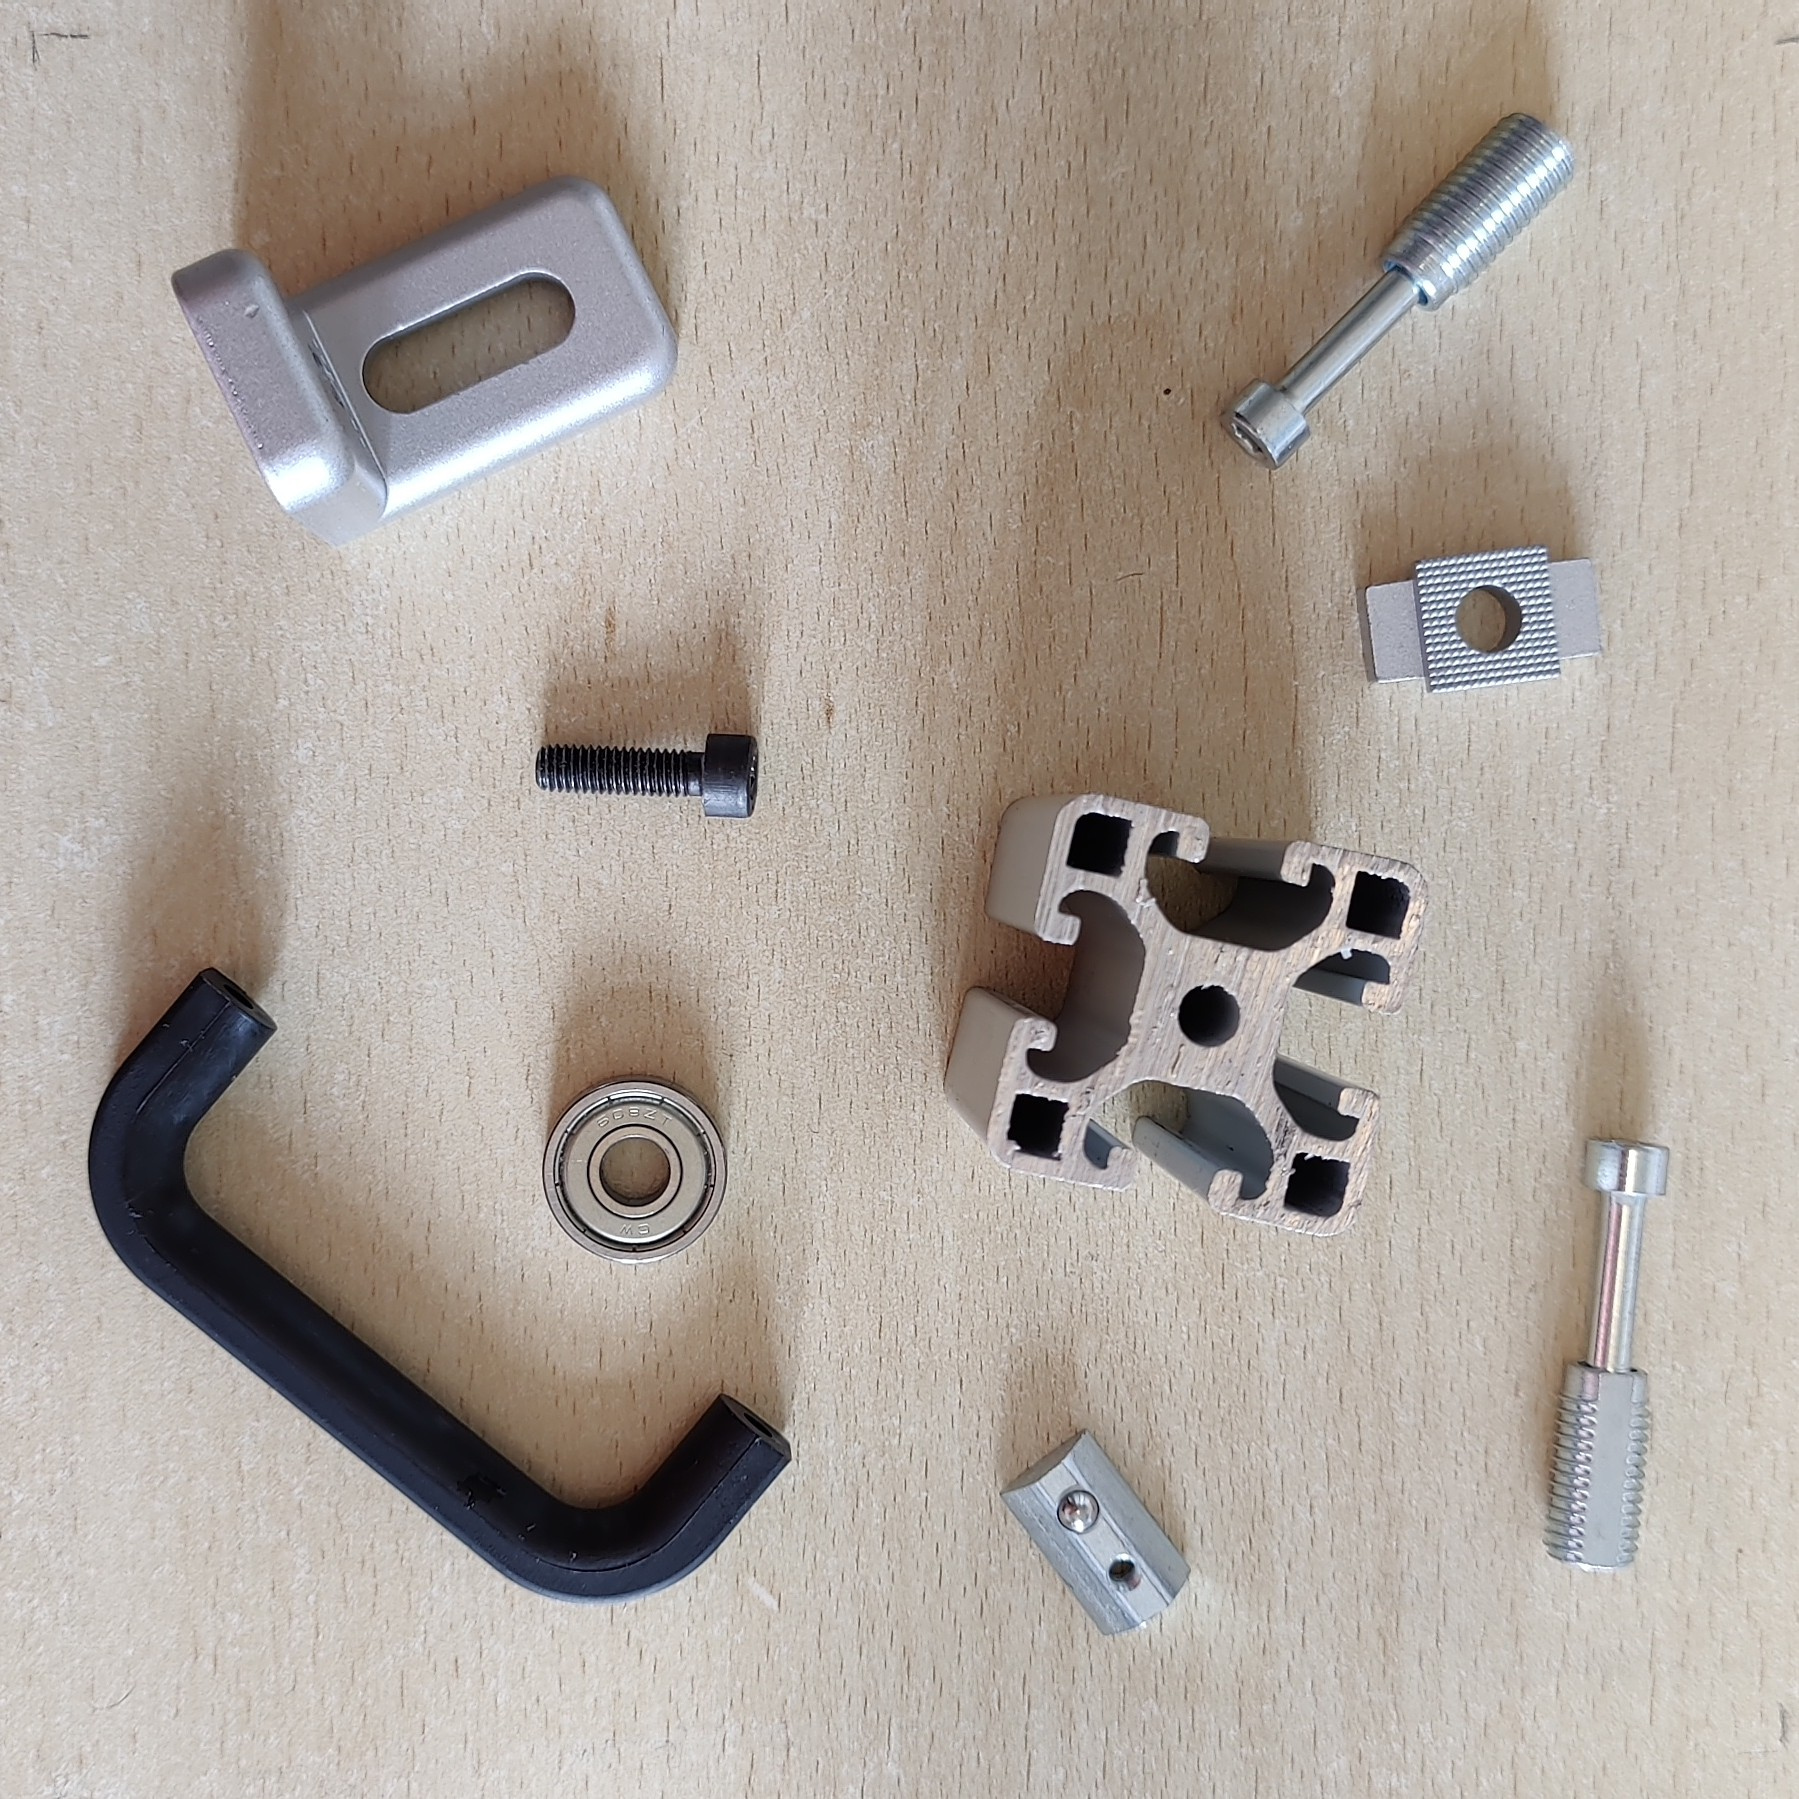Aluminium Extension: (941, 787, 1432, 1241)
Ball Bearing: (540, 1072, 728, 1267)
Multiwinkel: (170, 173, 680, 549)
Pull Handle: (84, 964, 792, 1610)
Shoulder Socket Head Cap Screw: (1216, 110, 1578, 473), (1539, 1133, 1674, 1573)
Socket Head Cap Screw: (530, 727, 761, 824)
T Nut Square: (1357, 545, 1605, 699)
T Spring Nut: (997, 1423, 1193, 1638)
